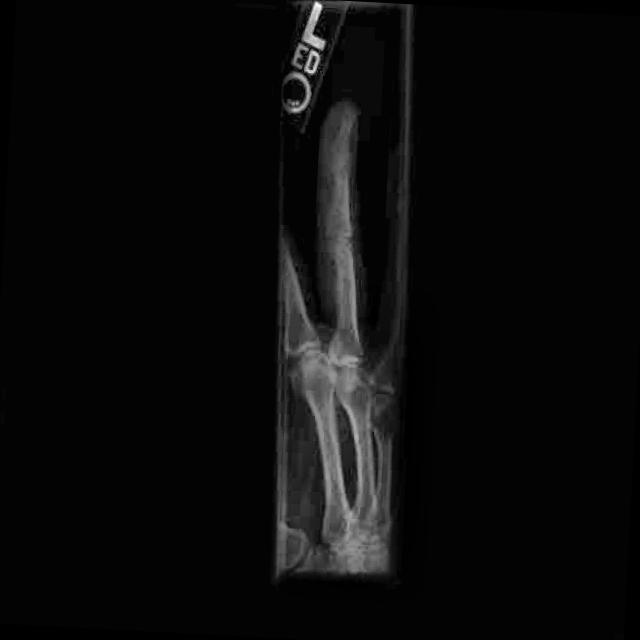fingers positive: (325, 148, 357, 202)
